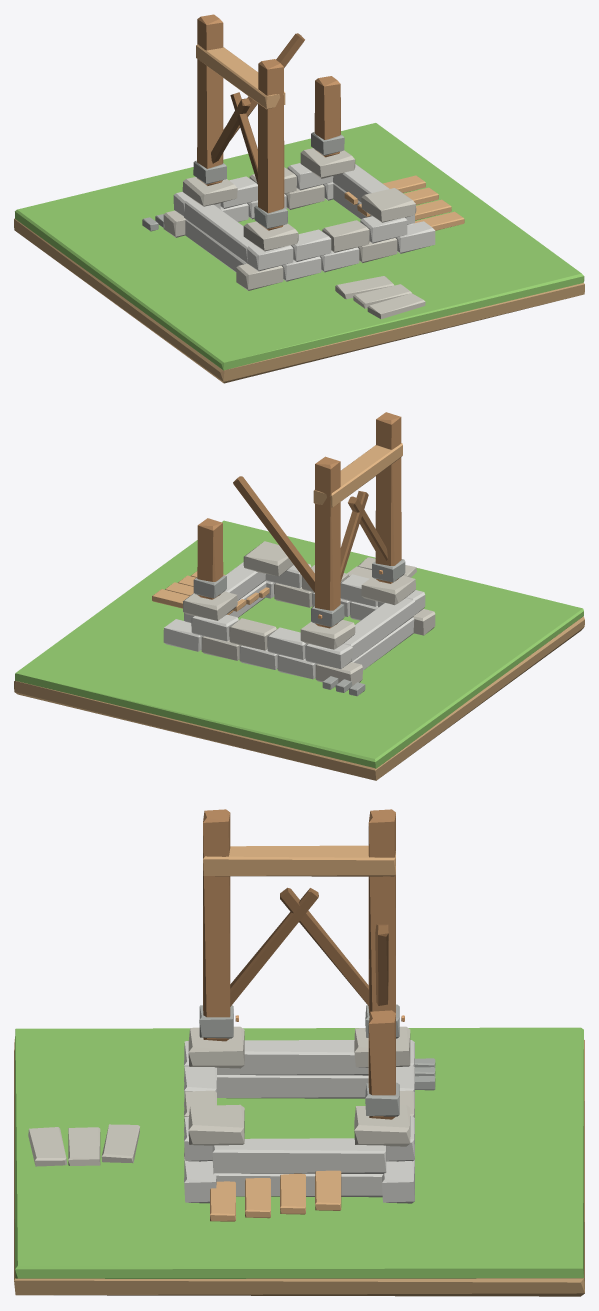
The model's file is tower_l01_construction_LOD1.glb.
3 views of the same model, one above another, from view 1: azimuth 30°, elevation 25°; view 2: azimuth 150°, elevation 25°; view 3: azimuth 270°, elevation 25° (orthographic). The views are drawn at different scales.
Parts seen in each view (by area): view 1: tower_l01_grass_tile_tower_l01_construction_LOD1_tmp, tower_l01_earth_tile_tower_l01_construction_LOD1_tmp, upright_-0.58_-0.52_tower_l01_construction_LOD1_tmp, upright_-0.58_0.52_tower_l01_construction_LOD1_tmp, temporary_crossbar_tower_l01_construction_LOD1_tmp, plinth_return_1_-0.73_tower_l01_construction_LOD1_tmp, upright_0.58_0.52_tower_l01_construction_LOD1_tmp, stone_foot_0.58_-0.52_tower_l01_construction_LOD1_tmp, stone_foot_0.58_0.52_tower_l01_construction_LOD1_tmp, stone_foot_-0.58_-0.52_tower_l01_construction_LOD1_tmp, stone_foot_-0.58_0.52_tower_l01_construction_LOD1_tmp, plinth_return_1_0.73_tower_l01_construction_LOD1_tmp (+26 smaller); view 2: tower_l01_grass_tile_tower_l01_construction_LOD1_tmp, tower_l01_earth_tile_tower_l01_construction_LOD1_tmp, upright_-0.58_0.52_tower_l01_construction_LOD1_tmp, upright_-0.58_-0.52_tower_l01_construction_LOD1_tmp, temporary_crossbar_tower_l01_construction_LOD1_tmp, plinth_return_1_-0.73_tower_l01_construction_LOD1_tmp, upright_0.58_0.52_tower_l01_construction_LOD1_tmp, rear_brace_0.52_tower_l01_construction_LOD1_tmp, stone_foot_0.58_-0.52_tower_l01_construction_LOD1_tmp, stone_foot_-0.58_0.52_tower_l01_construction_LOD1_tmp, stone_foot_-0.58_-0.52_tower_l01_construction_LOD1_tmp, stone_foot_0.58_0.52_tower_l01_construction_LOD1_tmp (+20 smaller); view 3: tower_l01_grass_tile_tower_l01_construction_LOD1_tmp, tower_l01_earth_tile_tower_l01_construction_LOD1_tmp, plinth_return_1_0.73_tower_l01_construction_LOD1_tmp, temporary_crossbar_tower_l01_construction_LOD1_tmp, upright_-0.58_-0.52_tower_l01_construction_LOD1_tmp, plinth_return_1_-0.73_tower_l01_construction_LOD1_tmp, upright_-0.58_0.52_tower_l01_construction_LOD1_tmp, plinth_return_0_-0.73_tower_l01_construction_LOD1_tmp, upright_0.58_0.52_tower_l01_construction_LOD1_tmp, stone_foot_0.58_-0.52_tower_l01_construction_LOD1_tmp, plinth_return_0_0.73_tower_l01_construction_LOD1_tmp, stone_foot_0.58_0.52_tower_l01_construction_LOD1_tmp (+17 smaller).
Part boxes in pixels (left/top/right/bottom): tower_l01_grass_tile_tower_l01_construction_LOD1_tmp: left=15, top=123, right=584, bottom=370; tower_l01_earth_tile_tower_l01_construction_LOD1_tmp: left=14, top=218, right=584, bottom=383; upright_-0.58_-0.52_tower_l01_construction_LOD1_tmp: left=258, top=59, right=284, bottom=230; upright_-0.58_0.52_tower_l01_construction_LOD1_tmp: left=197, top=14, right=223, bottom=185; temporary_crossbar_tower_l01_construction_LOD1_tmp: left=196, top=44, right=285, bottom=109; plinth_return_1_-0.73_tower_l01_construction_LOD1_tmp: left=184, top=199, right=254, bottom=263; upright_0.58_0.52_tower_l01_construction_LOD1_tmp: left=314, top=76, right=340, bottom=157; stone_foot_0.58_-0.52_tower_l01_construction_LOD1_tmp: left=361, top=188, right=416, bottom=222; stone_foot_0.58_0.52_tower_l01_construction_LOD1_tmp: left=300, top=148, right=355, bottom=178; stone_foot_-0.58_-0.52_tower_l01_construction_LOD1_tmp: left=243, top=221, right=298, bottom=251; stone_foot_-0.58_0.52_tower_l01_construction_LOD1_tmp: left=182, top=177, right=237, bottom=206; plinth_return_1_0.73_tower_l01_construction_LOD1_tmp: left=333, top=164, right=414, bottom=224; tower_l01_grass_tile_tower_l01_construction_LOD1_tmp: left=15, top=520, right=583, bottom=768; tower_l01_earth_tile_tower_l01_construction_LOD1_tmp: left=14, top=616, right=584, bottom=780; upright_-0.58_0.52_tower_l01_construction_LOD1_tmp: left=315, top=456, right=340, bottom=628; upright_-0.58_-0.52_tower_l01_construction_LOD1_tmp: left=375, top=412, right=401, bottom=583; temporary_crossbar_tower_l01_construction_LOD1_tmp: left=313, top=443, right=402, bottom=507; plinth_return_1_-0.73_tower_l01_construction_LOD1_tmp: left=343, top=598, right=414, bottom=661; upright_0.58_0.52_tower_l01_construction_LOD1_tmp: left=197, top=518, right=223, bottom=599; rear_brace_0.52_tower_l01_construction_LOD1_tmp: left=233, top=476, right=314, bottom=592; stone_foot_0.58_-0.52_tower_l01_construction_LOD1_tmp: left=243, top=541, right=298, bottom=576; stone_foot_-0.58_0.52_tower_l01_construction_LOD1_tmp: left=300, top=619, right=355, bottom=649; stone_foot_-0.58_-0.52_tower_l01_construction_LOD1_tmp: left=361, top=575, right=415, bottom=605; stone_foot_0.58_0.52_tower_l01_construction_LOD1_tmp: left=183, top=591, right=237, bottom=620; tower_l01_grass_tile_tower_l01_construction_LOD1_tmp: left=15, top=1027, right=583, bottom=1278; tower_l01_earth_tile_tower_l01_construction_LOD1_tmp: left=14, top=1039, right=584, bottom=1296; plinth_return_1_0.73_tower_l01_construction_LOD1_tmp: left=212, top=1138, right=386, bottom=1173; temporary_crossbar_tower_l01_construction_LOD1_tmp: left=203, top=845, right=395, bottom=876; upright_-0.58_-0.52_tower_l01_construction_LOD1_tmp: left=203, top=809, right=230, bottom=1041; plinth_return_1_-0.73_tower_l01_construction_LOD1_tmp: left=217, top=1040, right=368, bottom=1075; upright_-0.58_0.52_tower_l01_construction_LOD1_tmp: left=368, top=809, right=395, bottom=1015; plinth_return_0_-0.73_tower_l01_construction_LOD1_tmp: left=217, top=1075, right=368, bottom=1098; upright_0.58_0.52_tower_l01_construction_LOD1_tmp: left=368, top=1010, right=395, bottom=1119; stone_foot_0.58_-0.52_tower_l01_construction_LOD1_tmp: left=188, top=1104, right=244, bottom=1145; plinth_return_0_0.73_tower_l01_construction_LOD1_tmp: left=213, top=1173, right=383, bottom=1197; stone_foot_0.58_0.52_tower_l01_construction_LOD1_tmp: left=354, top=1104, right=410, bottom=1146.
Bounding box in the file's own units: 3.6 × 2.25 × 3.58.
